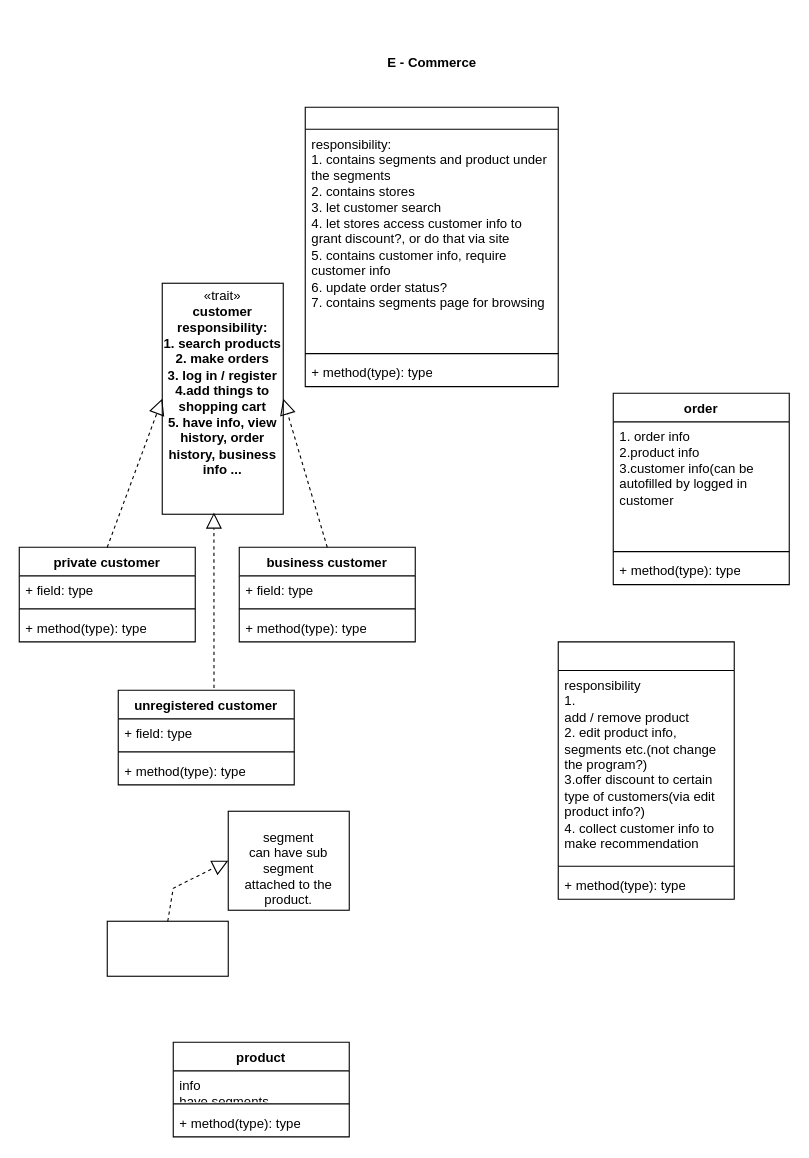
Some shapes in this 809 by 1158 pixel diagram are drawn without their labels. The shapes that lost their labels are listed below. From the top down, each one's box as (x1, y1, x2, y2) in pixels, then its label:
(304, 106, 558, 387): whole site
(557, 641, 734, 899): store
(106, 920, 228, 976): manufacturer probably one per product
